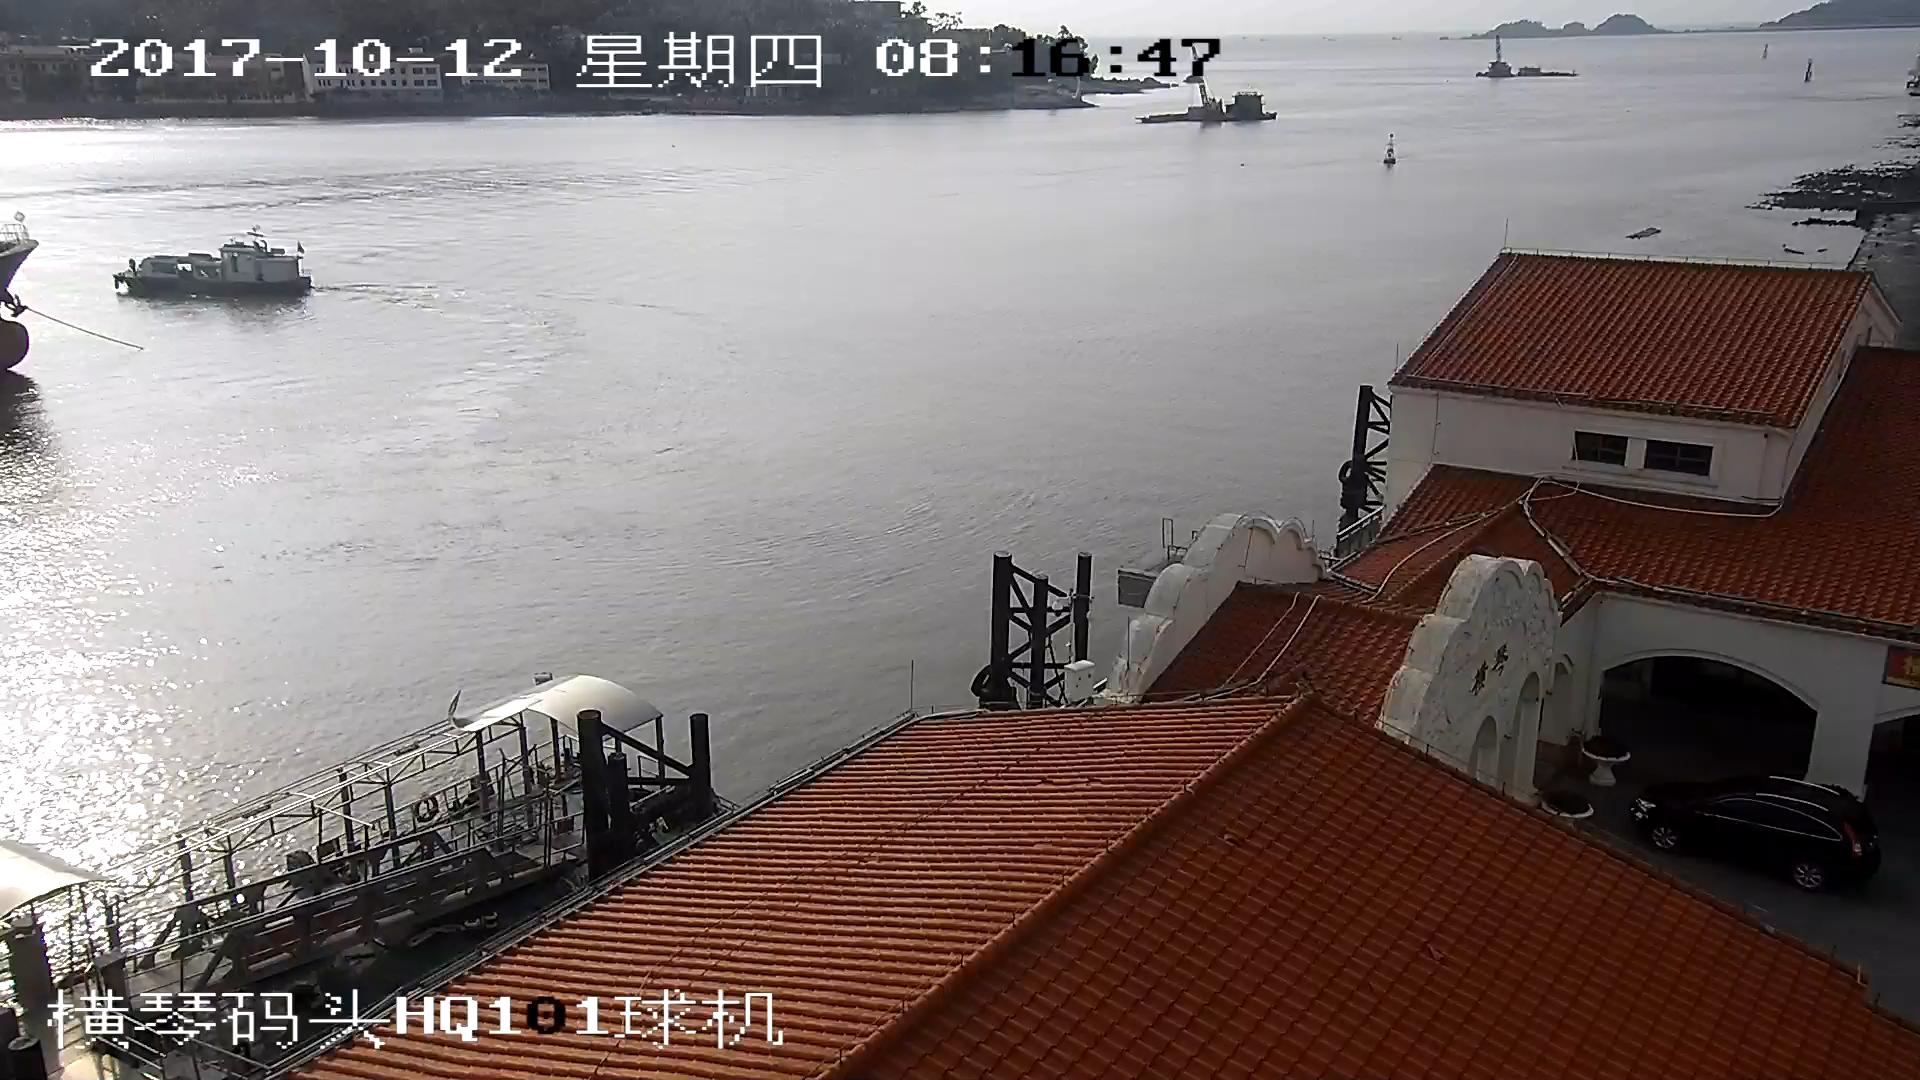fishing boat: (116, 233, 309, 297)
